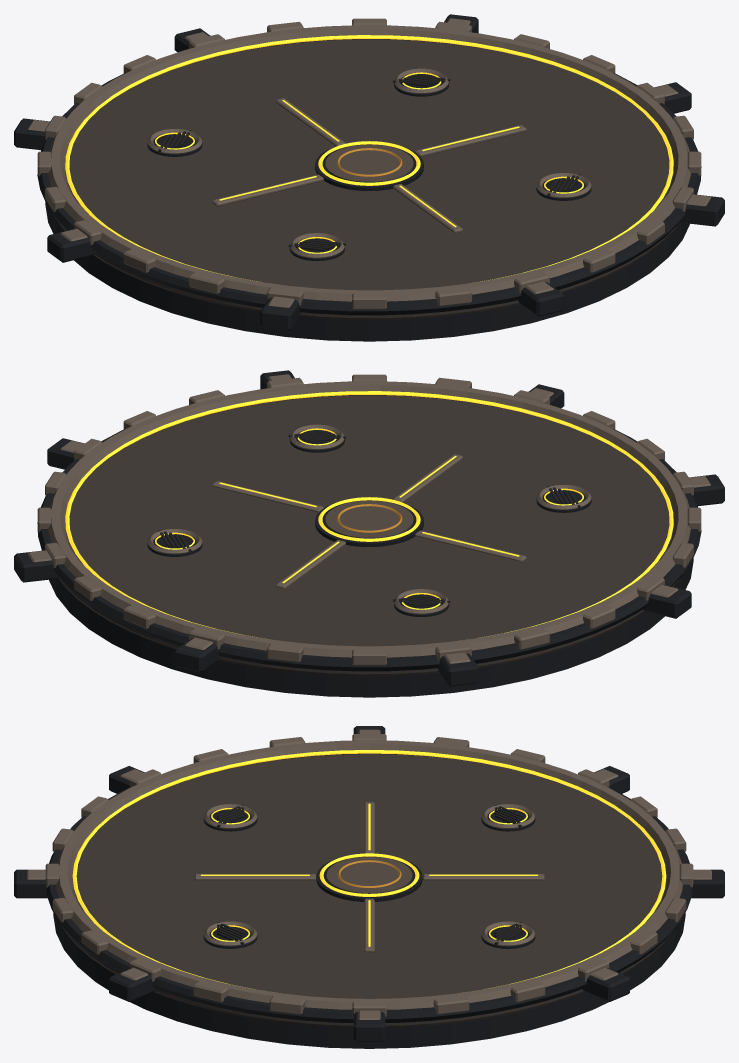
The model's file is Arena.fbx.
3 renders of one model, top to bottom at view 1: azimuth 30°, elevation 25°; view 2: azimuth 150°, elevation 25°; view 3: azimuth 270°, elevation 25°, orthographic. The views are drawn at different scales.
Parts seen in each view (by area): view 1: Arena_Plataforma, Inferno_Iron_Combined, Inferno_Dark_Underside_Combined, Inferno_Orange_Emission_Combined, Inferno_BurntPlate_Combined, Inferno_Grate_Combined; view 2: Arena_Plataforma, Inferno_Iron_Combined, Inferno_Dark_Underside_Combined, Inferno_Orange_Emission_Combined, Inferno_BurntPlate_Combined, Inferno_Grate_Combined; view 3: Arena_Plataforma, Inferno_Iron_Combined, Inferno_Dark_Underside_Combined, Inferno_Orange_Emission_Combined, Inferno_BurntPlate_Combined, Inferno_Grate_Combined.
Part boxes in pixels (x1,y1,x2,y2): Arena_Plataforma: (53, 39, 679, 320); Inferno_Iron_Combined: (28, 18, 710, 309); Inferno_Dark_Underside_Combined: (14, 14, 724, 341); Inferno_Orange_Emission_Combined: (65, 35, 673, 281); Inferno_BurntPlate_Combined: (325, 144, 413, 182); Inferno_Grate_Combined: (158, 75, 580, 251); Arena_Plataforma: (59, 395, 685, 676); Inferno_Iron_Combined: (28, 374, 710, 665); Inferno_Dark_Underside_Combined: (14, 370, 724, 697); Inferno_Orange_Emission_Combined: (65, 391, 673, 637); Inferno_BurntPlate_Combined: (325, 500, 413, 538); Inferno_Grate_Combined: (158, 431, 580, 607); Arena_Plataforma: (63, 754, 675, 1027); Inferno_Iron_Combined: (27, 729, 711, 1019); Inferno_Dark_Underside_Combined: (14, 726, 724, 1048); Inferno_Orange_Emission_Combined: (72, 750, 666, 988); Inferno_BurntPlate_Combined: (326, 856, 412, 893); Inferno_Grate_Combined: (217, 804, 521, 944).
Bounding box in the file's own units: 19 × 1.34 × 19.
